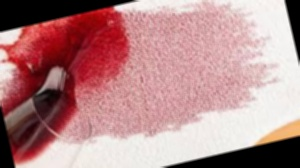wine: (48, 0, 261, 150), (6, 12, 129, 109)
